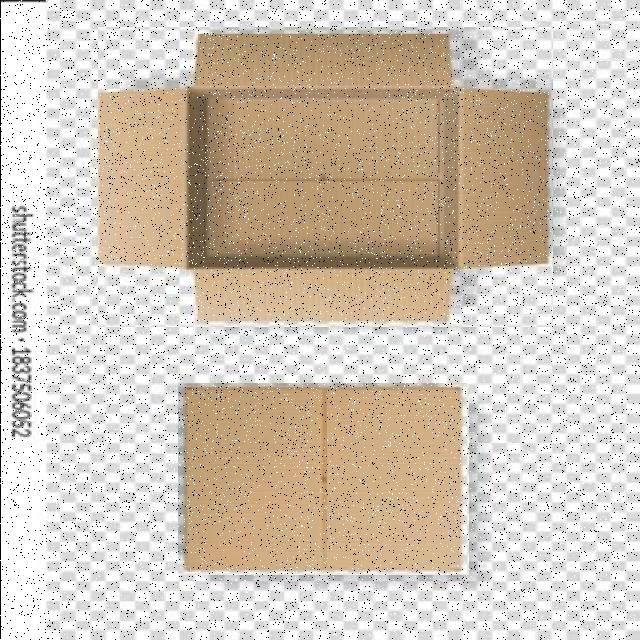defect: (97, 28, 552, 328)
normal: (177, 383, 468, 575)
